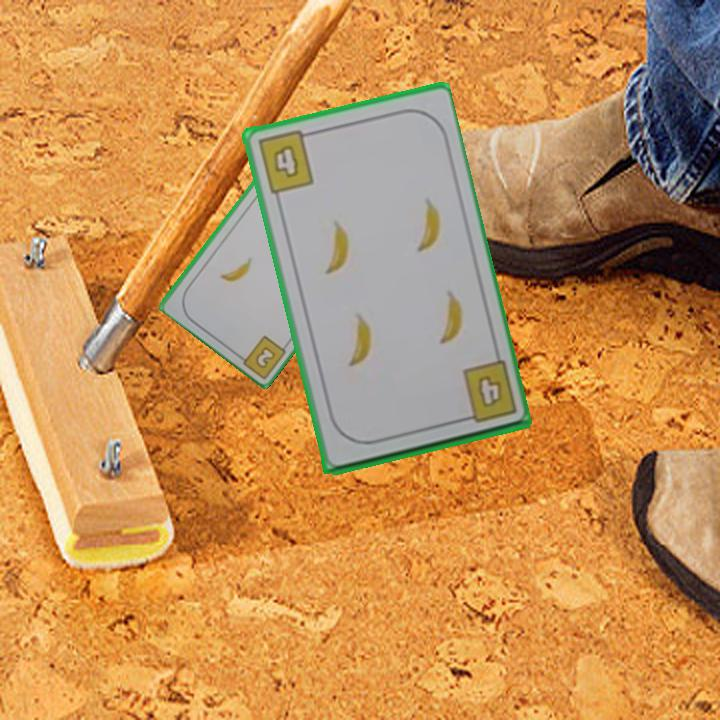2b: (233, 331, 289, 379)
4b: (454, 357, 520, 426), (254, 127, 316, 197)
